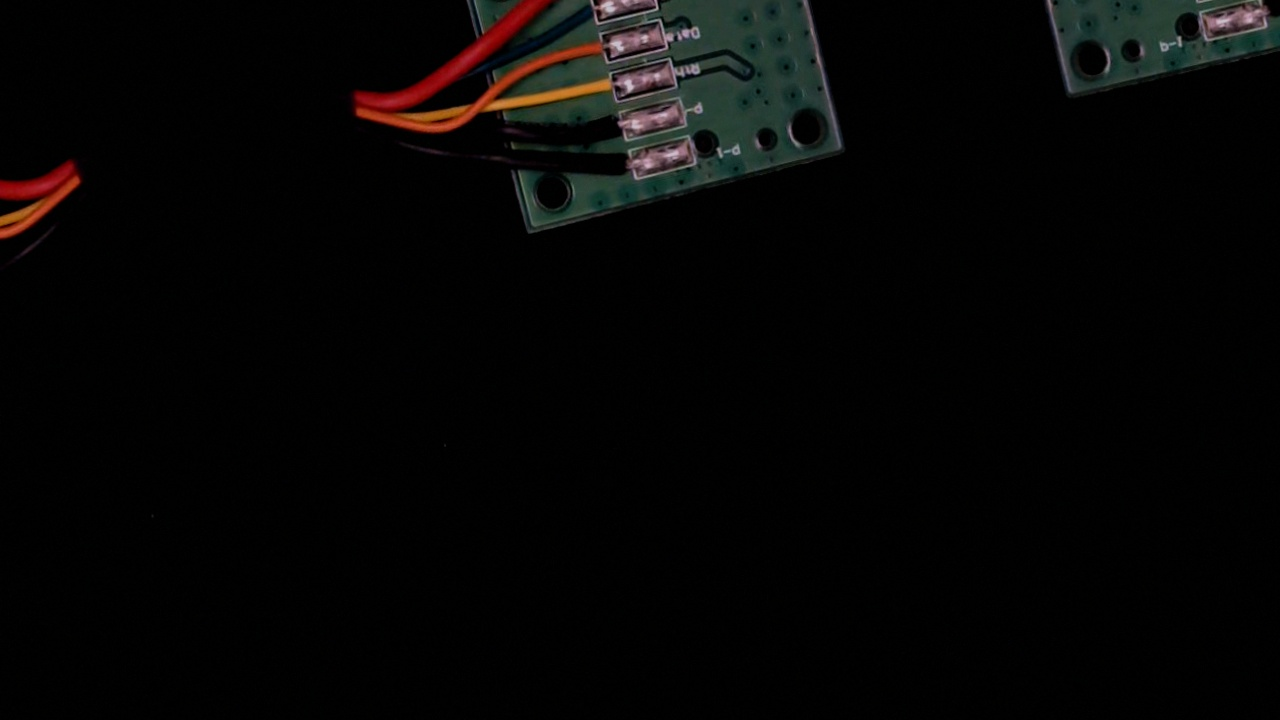Black: (570, 104, 650, 155)
Black1: (585, 142, 658, 191), (1238, 0, 1280, 33)
Green: (545, 0, 622, 38)
Orange: (552, 27, 630, 76)
Yellow: (560, 64, 640, 115)
